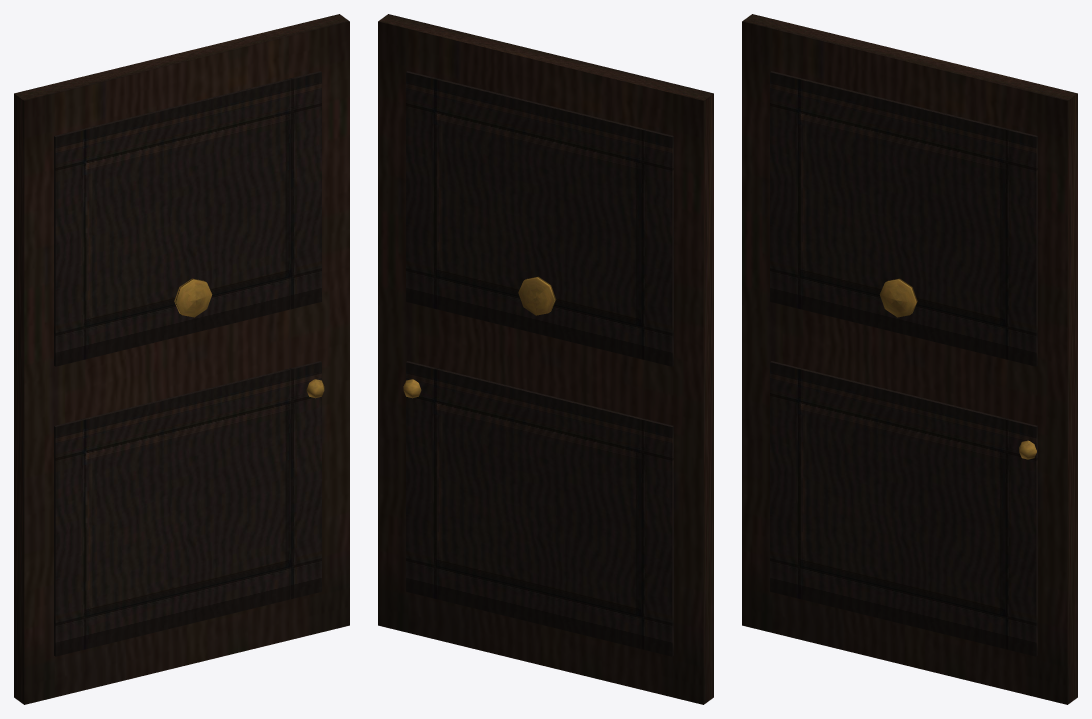
File: front_door.glb
3 views of the same model, side by side, from view 1: azimuth 30°, elevation 25°; view 2: azimuth 150°, elevation 25°; view 3: azimuth 330°, elevation 25° (orthographic).
Parts seen in each view (by area): view 1: front_door; view 2: front_door; view 3: front_door.
Boxes of the visible parts, x1,y1,x2,y2 form: front_door: (14, 14, 349, 704); front_door: (378, 14, 713, 704); front_door: (742, 14, 1077, 704).
Bounding box in the file's own units: 2.2 × 3.9 × 0.309.
3 materials, 3 textured.
